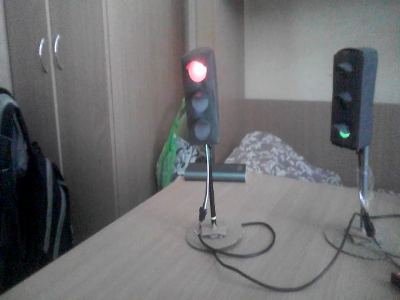trafficlight_green: (330, 52, 361, 146)
trafficlight_red: (182, 54, 215, 142)
